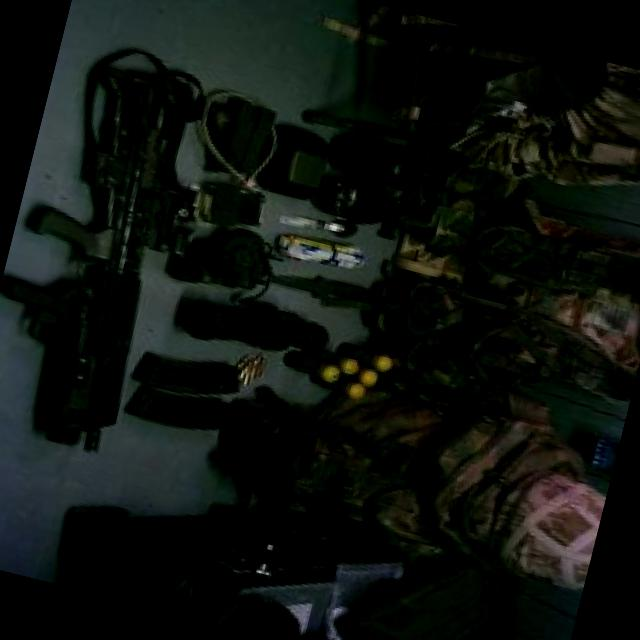long weapon: (0, 26, 227, 471)
